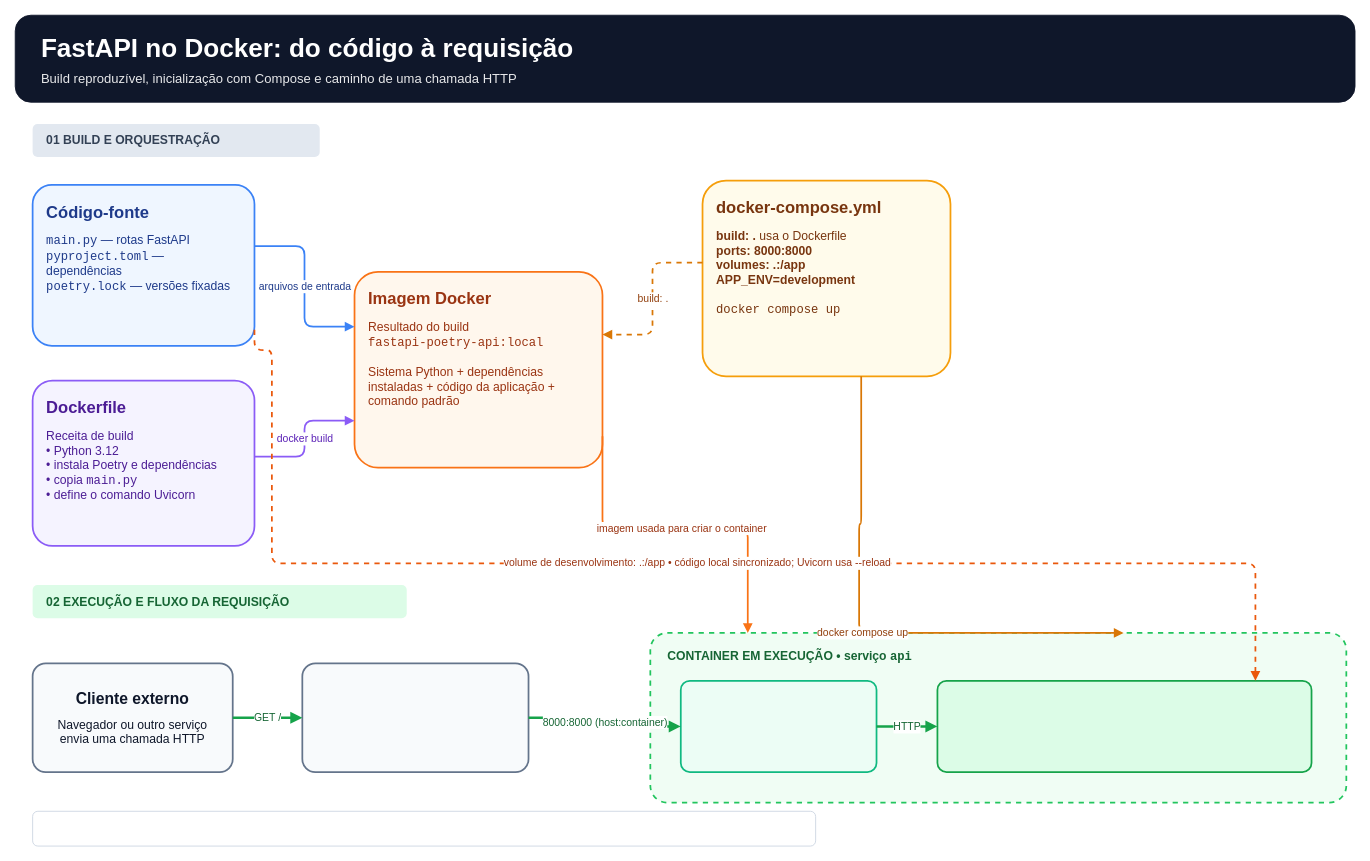
This 1370x861 diagram has some shape labels left out. The centre of each missing label's shape, as x and y in pixels:
"Legenda ━━ Build / configuração ━━ Requisição HTTP ┅┅ Volume montado" belongs at pixel 424 828.
"Máquina host http://localhost:8000 porta publicada pelo Docker" belongs at pixel 415 717.
"Porta do container :8000 recebe a porta publicada" belongs at pixel 778 726.
"Uvicorn → FastAPI 0.0.0.0:8000 aceita conexões main:app encaminha à rota" belongs at pixel 1124 726.
